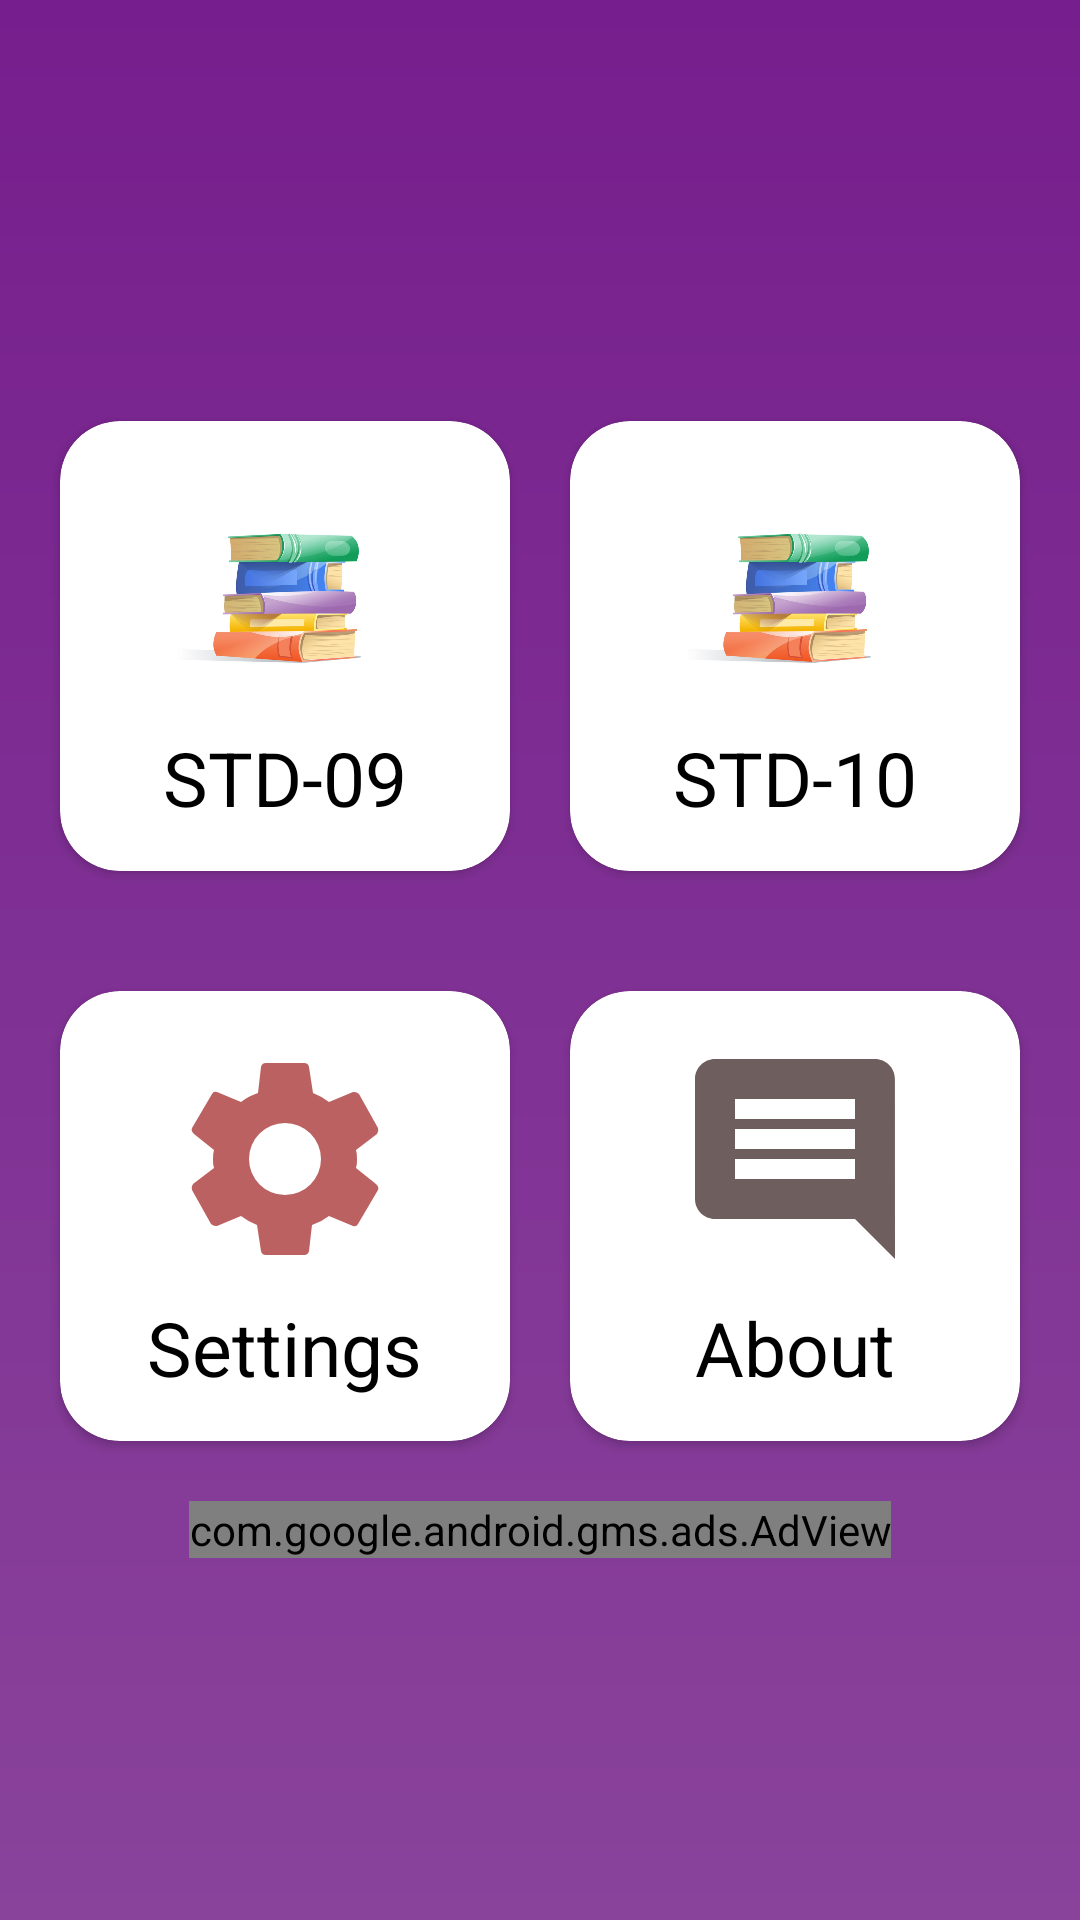

Screen size 1080×1920. Icon name, then its box in pixels as Rect(x1, y1, x2, y2):
book: Rect(213, 533, 361, 663), Rect(723, 533, 871, 663)
comment: Rect(695, 1059, 895, 1259)
